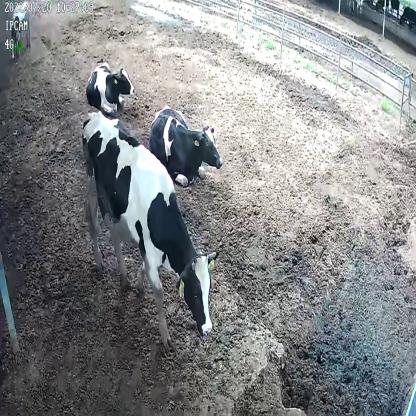cow: (80, 114, 214, 352), (146, 103, 224, 186), (84, 55, 135, 114), (7, 4, 32, 58)
